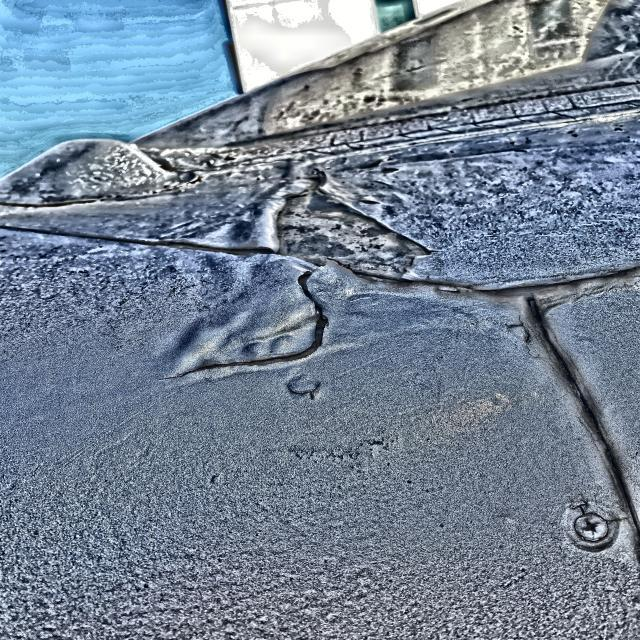crack: (173, 343, 329, 378), (557, 501, 634, 555)
